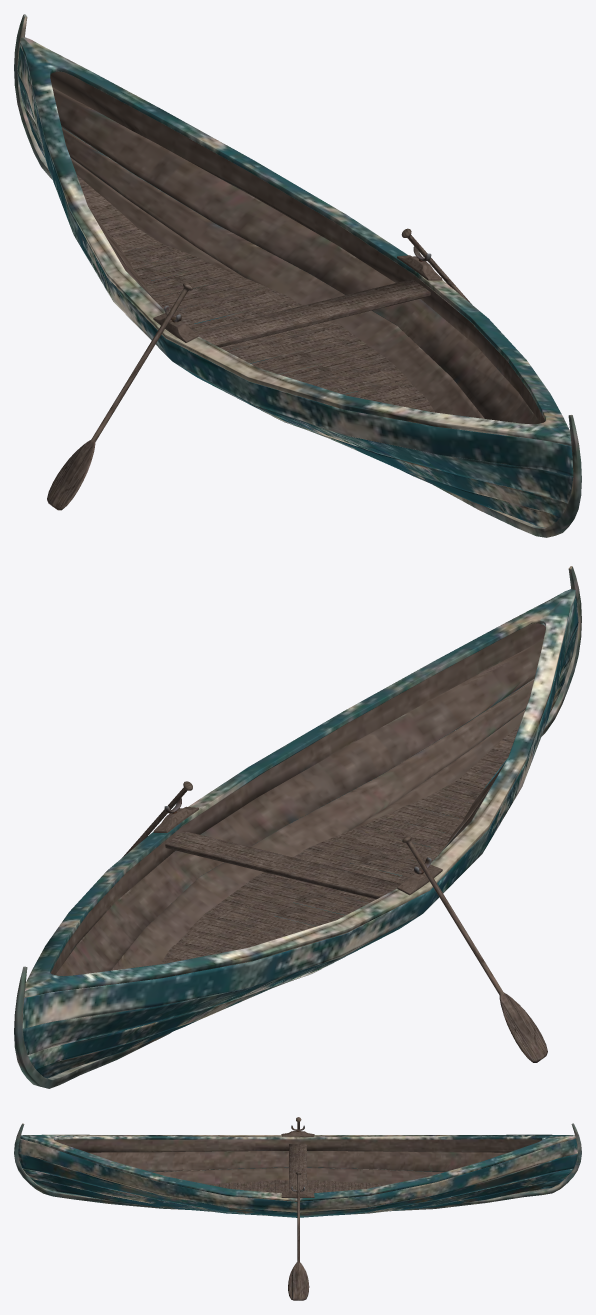
The model's file is boat.glb.
3 views of the same model, one above another, from view 1: azimuth 30°, elevation 25°; view 2: azimuth 150°, elevation 25°; view 3: azimuth 270°, elevation 25° (orthographic). The views are drawn at different scales.
Visible parts, largest first — view 1: side_wall_1.001, down_strips_pCube7.001, top_part.001, pSphere1.001, support.001, side_holdings.001; view 2: side_wall_1.001, down_strips_pCube7.001, top_part.001, support.001, pSphere1.001, side_holdings.001; view 3: side_wall_1.001, top_part.001, down_strips_pCube7.001, support.001, pSphere1.001, side_holdings.001.
Boxes of the visible parts, <box> form: side_wall_1.001: <box>17,43,573,527</box>; down_strips_pCube7.001: <box>77,175,434,412</box>; top_part.001: <box>20,37,571,445</box>; pSphere1.001: <box>47,228,471,510</box>; support.001: <box>14,14,581,537</box>; side_holdings.001: <box>153,255,442,342</box>; side_wall_1.001: <box>22,594,578,1078</box>; down_strips_pCube7.001: <box>160,725,519,964</box>; top_part.001: <box>24,589,575,997</box>; support.001: <box>14,566,581,1088</box>; pSphere1.001: <box>122,781,547,1062</box>; side_holdings.001: <box>153,806,442,895</box>; side_wall_1.001: <box>18,1138,577,1217</box>; top_part.001: <box>20,1134,575,1201</box>; down_strips_pCube7.001: <box>210,1144,385,1193</box>; support.001: <box>14,1123,581,1210</box>; pSphere1.001: <box>288,1117,309,1300</box>; side_holdings.001: <box>281,1131,314,1198</box>.
Size of the model in its own units: 0.502 by 0.2285 by 0.9989.
7 materials, 7 textured.
